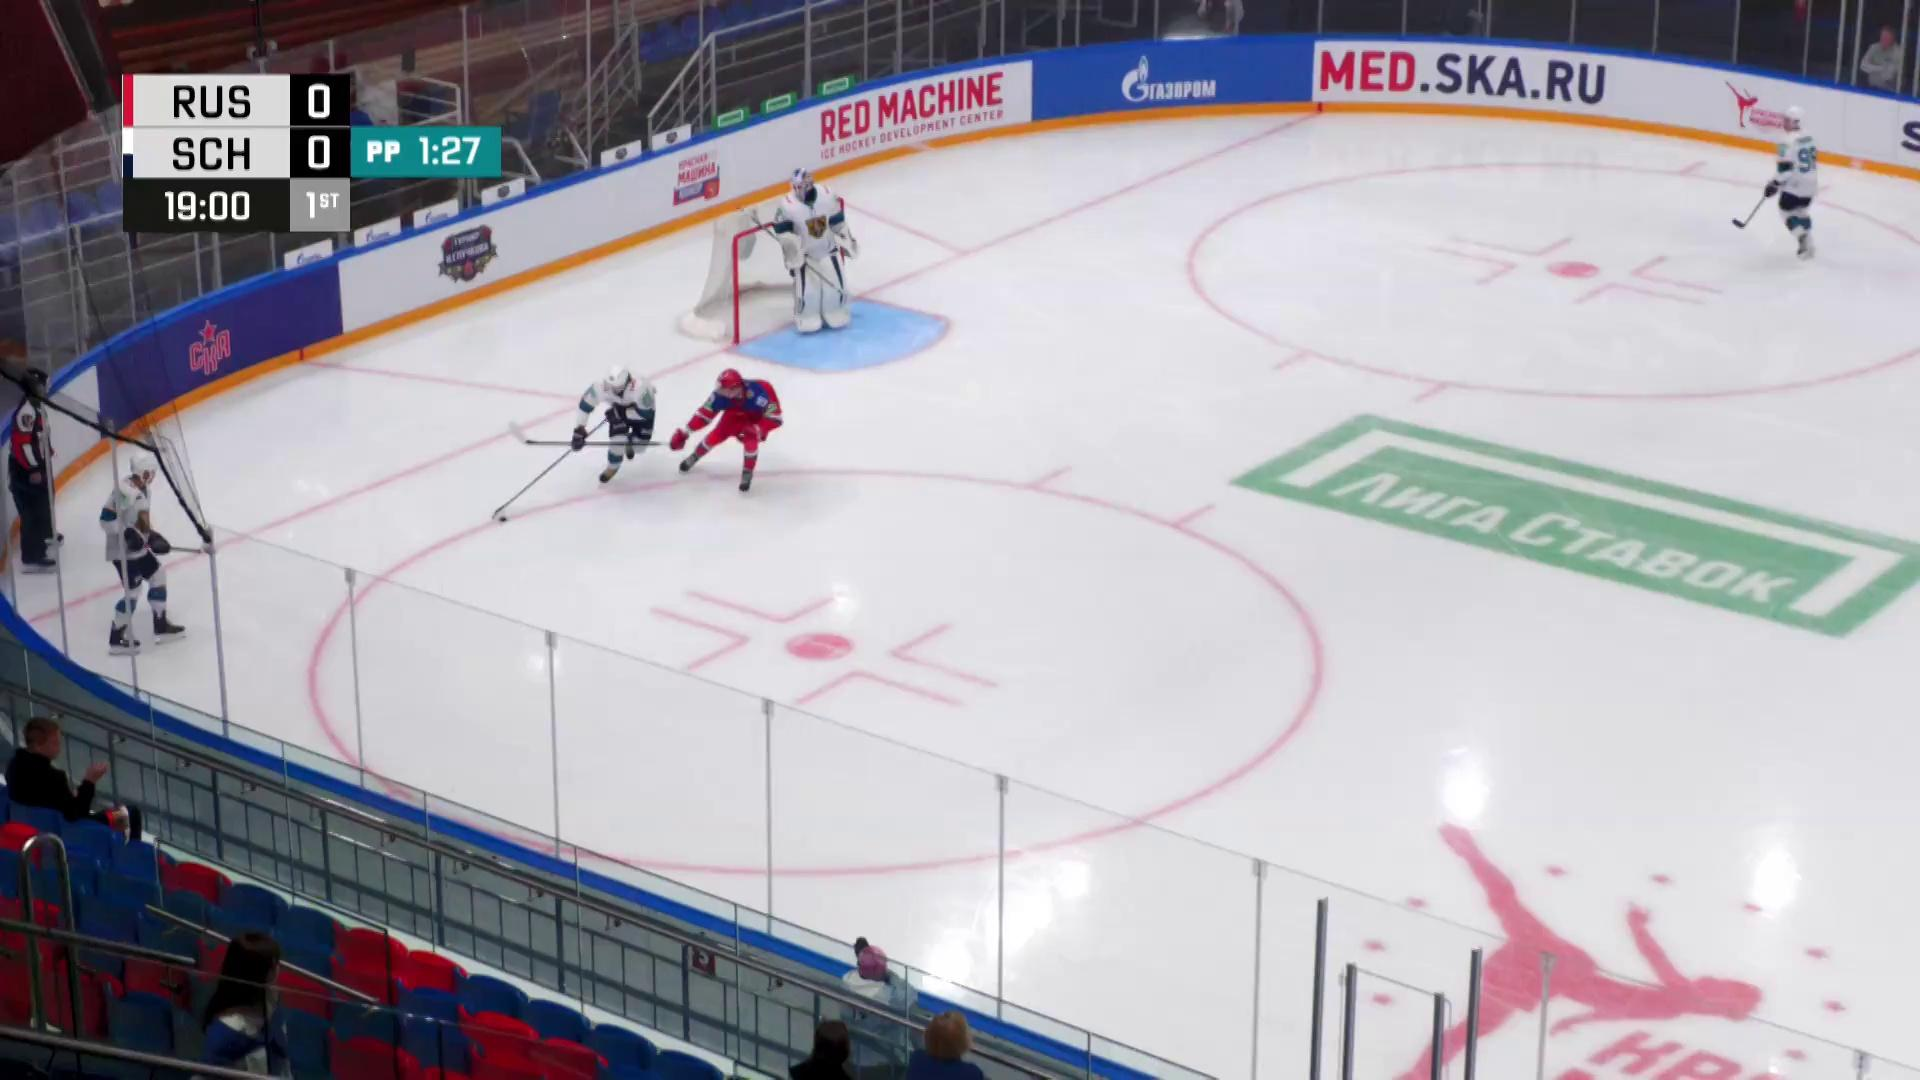ball: (498, 517, 509, 525)
